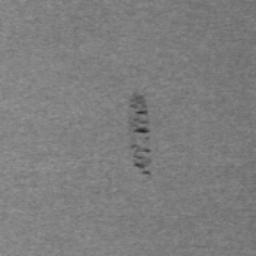Secondary rust skin: (128, 94, 149, 115), (133, 161, 152, 175), (131, 126, 151, 135), (142, 147, 152, 153)
